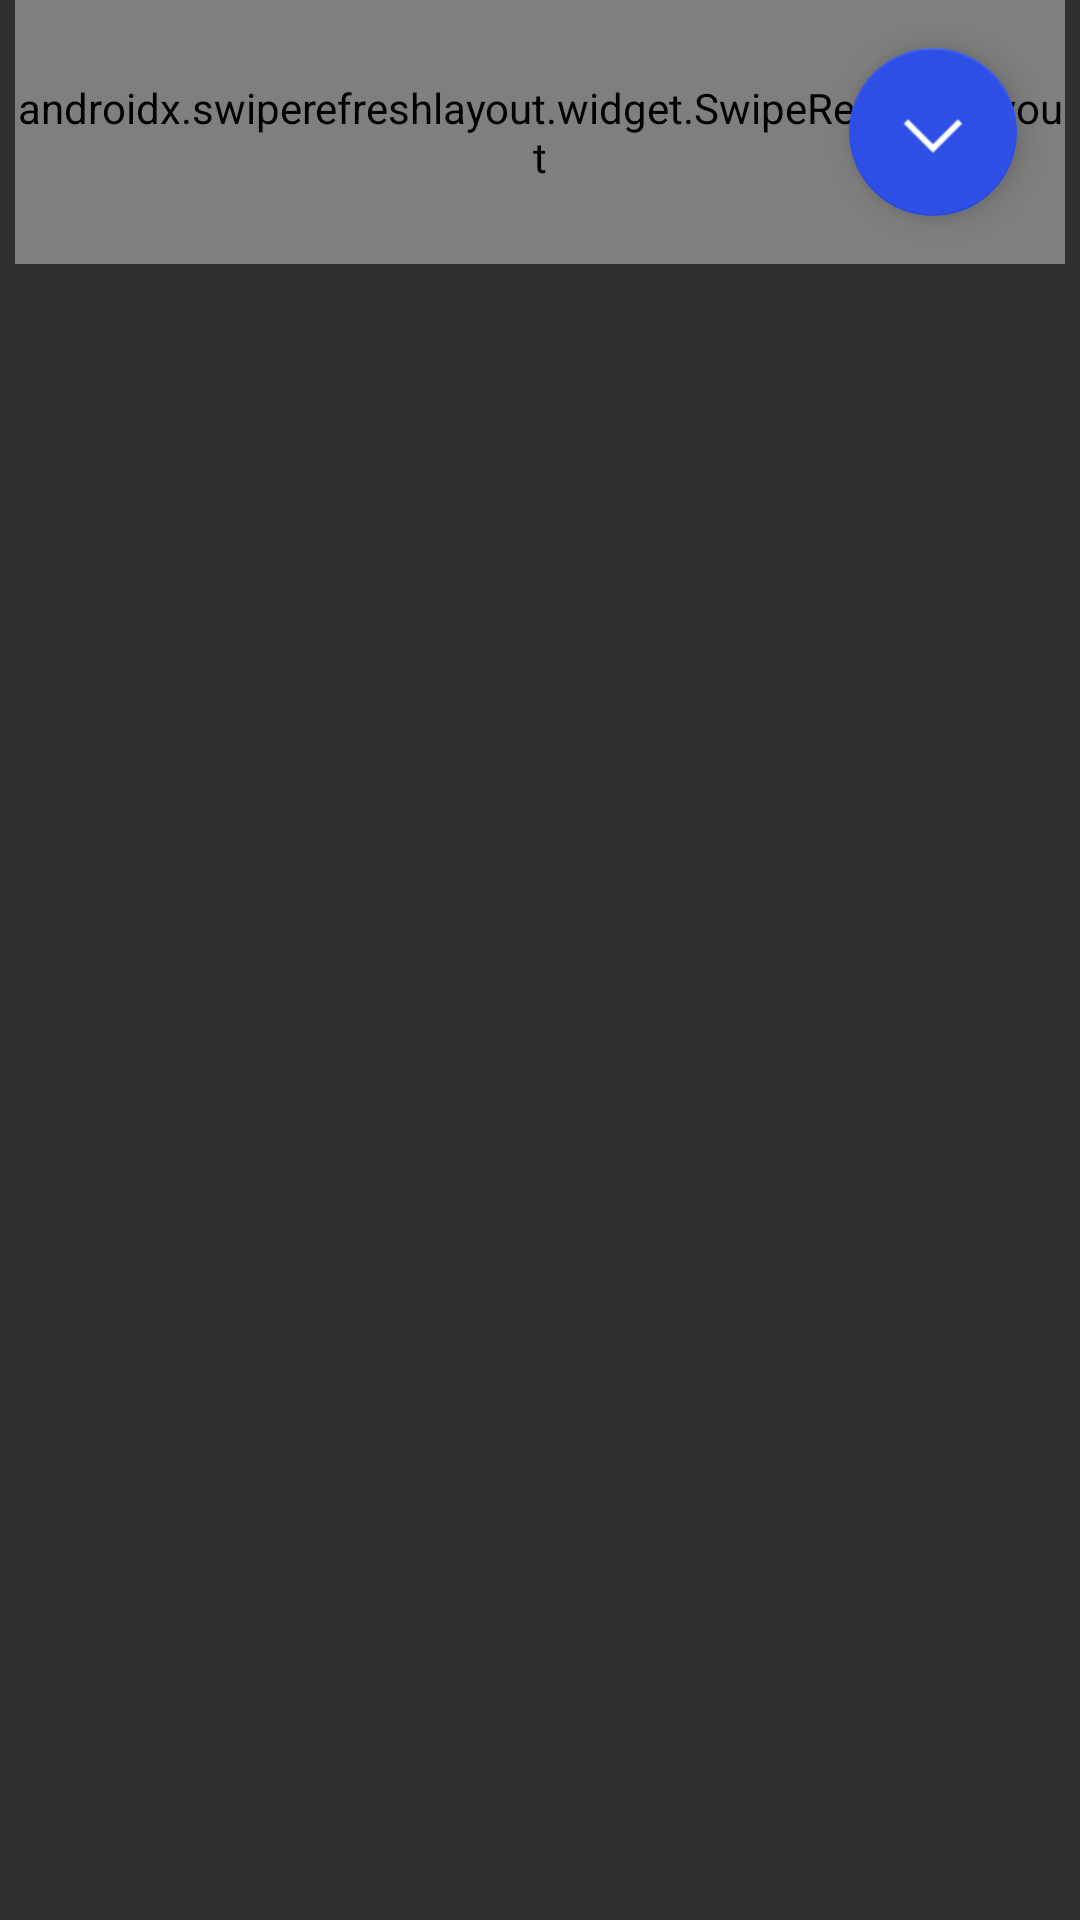

Point at icon controls on the screen. Image size 1080×1920, points as point (x, y).
arrow down: point (933, 132)
